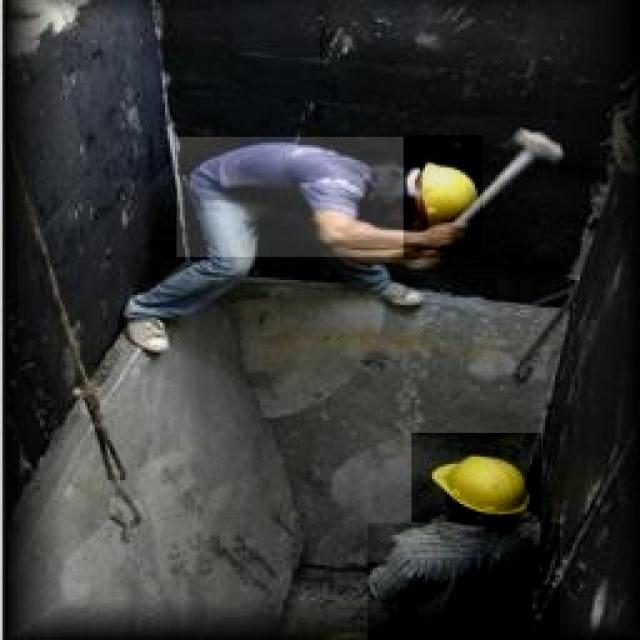Helmet: (176, 137, 404, 257), (367, 522, 560, 640), (412, 434, 542, 538), (404, 135, 484, 260)
